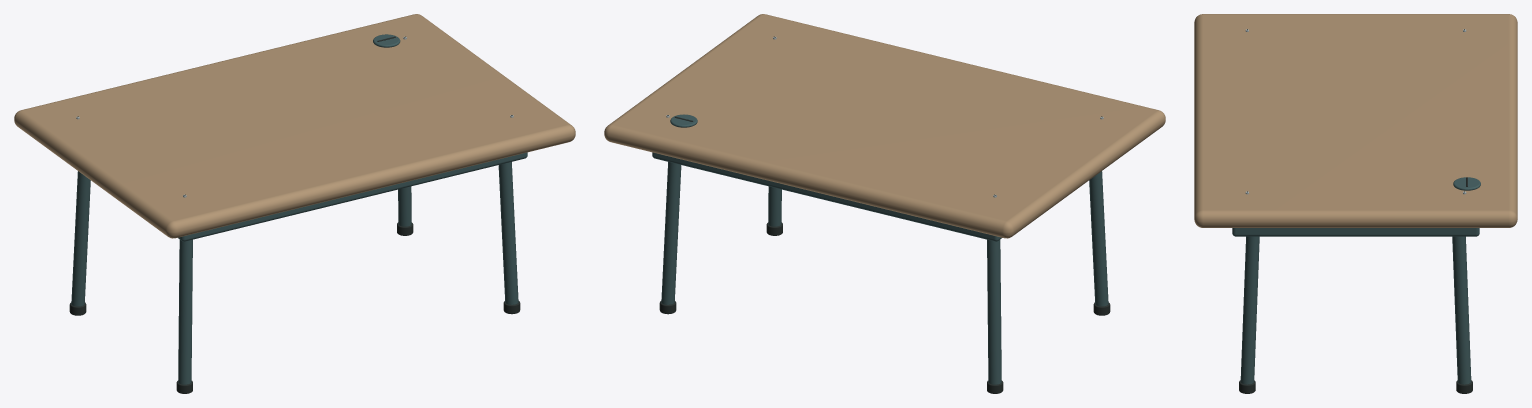
The model's file is study_desk.glb.
3 renders of one model, left to right at view 1: azimuth 30°, elevation 25°; view 2: azimuth 150°, elevation 25°; view 3: azimuth 270°, elevation 25°, orthographic.
Parts seen in each view (by area): view 1: Solid rounded ash top, Inset underframe, Round steel leg, Round steel leg.002, Round steel leg.001, Round steel leg.003; view 2: Solid rounded ash top, Inset underframe, Round steel leg.001, Round steel leg.003, Round steel leg, Round steel leg.002; view 3: Solid rounded ash top, Inset underframe, Round steel leg.002, Round steel leg.003, Cable grommet.
Boxes of the visible parts, box(x1,y1,x2,y2) form: Solid rounded ash top: box(14, 14, 575, 238); Inset underframe: box(178, 152, 527, 241); Round steel leg: box(178, 239, 192, 384); Round steel leg.002: box(498, 162, 518, 304); Round steel leg.001: box(71, 171, 90, 306); Round steel leg.003: box(398, 186, 411, 226); Solid rounded ash top: box(604, 14, 1165, 238); Inset underframe: box(652, 152, 1002, 241); Round steel leg.001: box(987, 239, 1001, 384); Round steel leg.003: box(661, 162, 681, 304); Round steel leg: box(1089, 171, 1108, 306); Round steel leg.002: box(768, 186, 781, 226); Solid rounded ash top: box(1194, 14, 1517, 227); Inset underframe: box(1232, 228, 1479, 236); Round steel leg.002: box(1240, 236, 1259, 384); Round steel leg.003: box(1452, 236, 1471, 384); Cable grommet: box(1453, 177, 1480, 190).
Size of the model in its own units: 1.9 by 0.8755 by 1.28.
